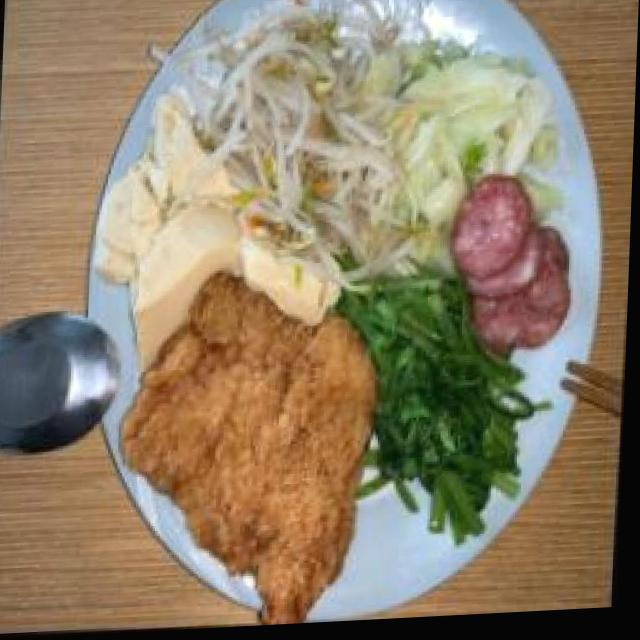chinese_cabbage: (399, 30, 563, 199)
chinese_sausage: (454, 184, 584, 362)
fried_chicken: (122, 267, 390, 617)
mung_bean_sprouts: (186, 0, 408, 242)
water_spinach: (379, 278, 531, 544)
